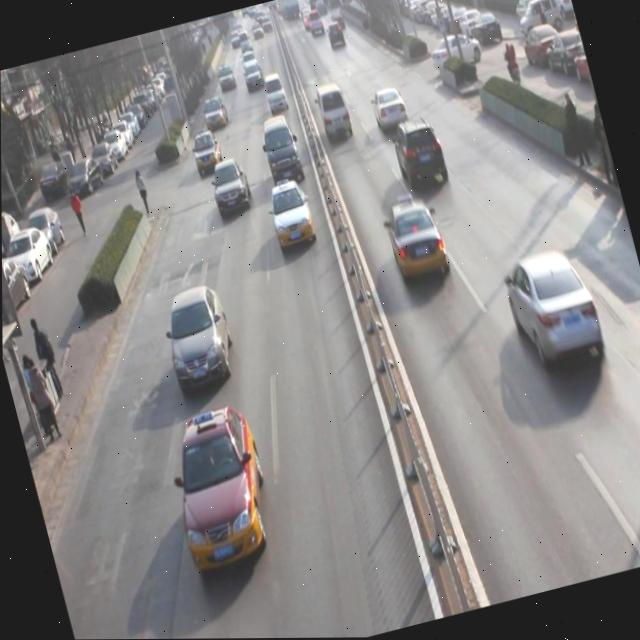car: (155, 403, 283, 573), (497, 245, 608, 376), (156, 280, 240, 393), (381, 195, 452, 290), (390, 114, 454, 201), (264, 177, 318, 253), (205, 153, 259, 226), (366, 79, 413, 137), (188, 128, 226, 179), (198, 92, 231, 133), (214, 62, 239, 93), (241, 61, 265, 93)
truck: (255, 112, 308, 189), (311, 80, 359, 151), (259, 72, 291, 118)
